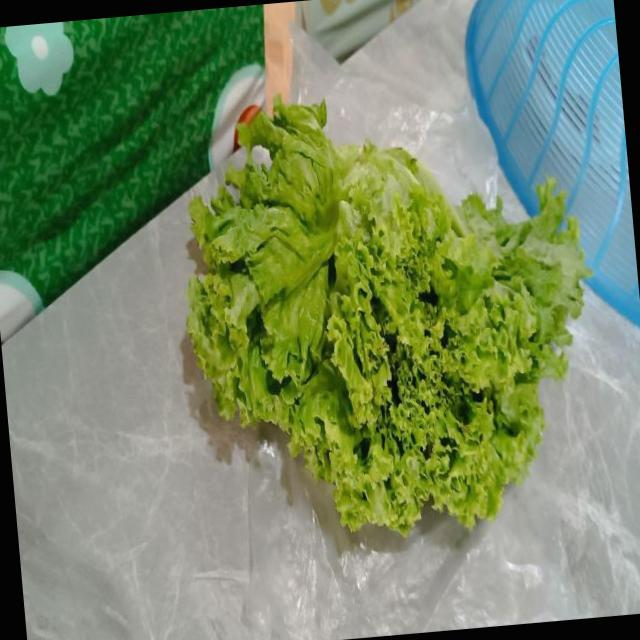Lettuce-Ready-to-Harvest: (188, 102, 587, 533)
